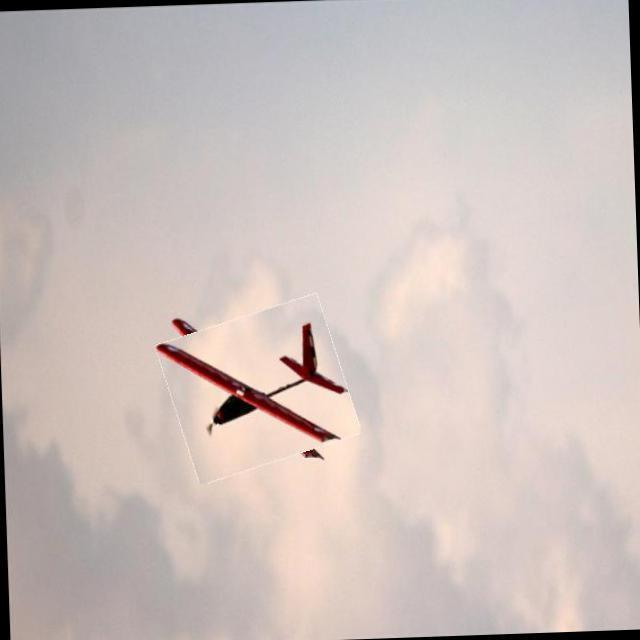iha: (144, 281, 369, 488)
